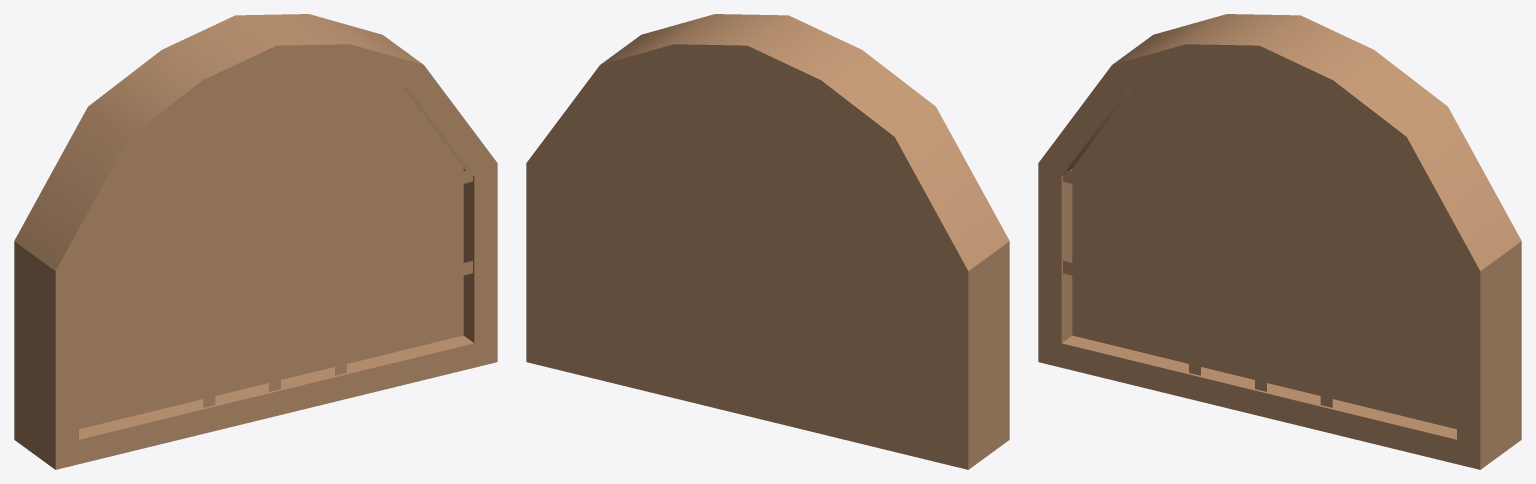
File: Village_Window_C.fbx
The picture shows the model from 3 angles, left to right: view 1: azimuth 30°, elevation 25°; view 2: azimuth 150°, elevation 25°; view 3: azimuth 330°, elevation 25°; orthographic projection.
Visible parts, largest first — view 1: Window_Set_C2; view 2: Window_Set_C2; view 3: Window_Set_C2.
Part boxes in pixels (left/top/right/bottom): Window_Set_C2: left=14, top=14, right=497, bottom=469; Window_Set_C2: left=526, top=14, right=1009, bottom=469; Window_Set_C2: left=1038, top=14, right=1521, bottom=469.
Size of the model in its own units: 52.29 by 41.86 by 8.46.
